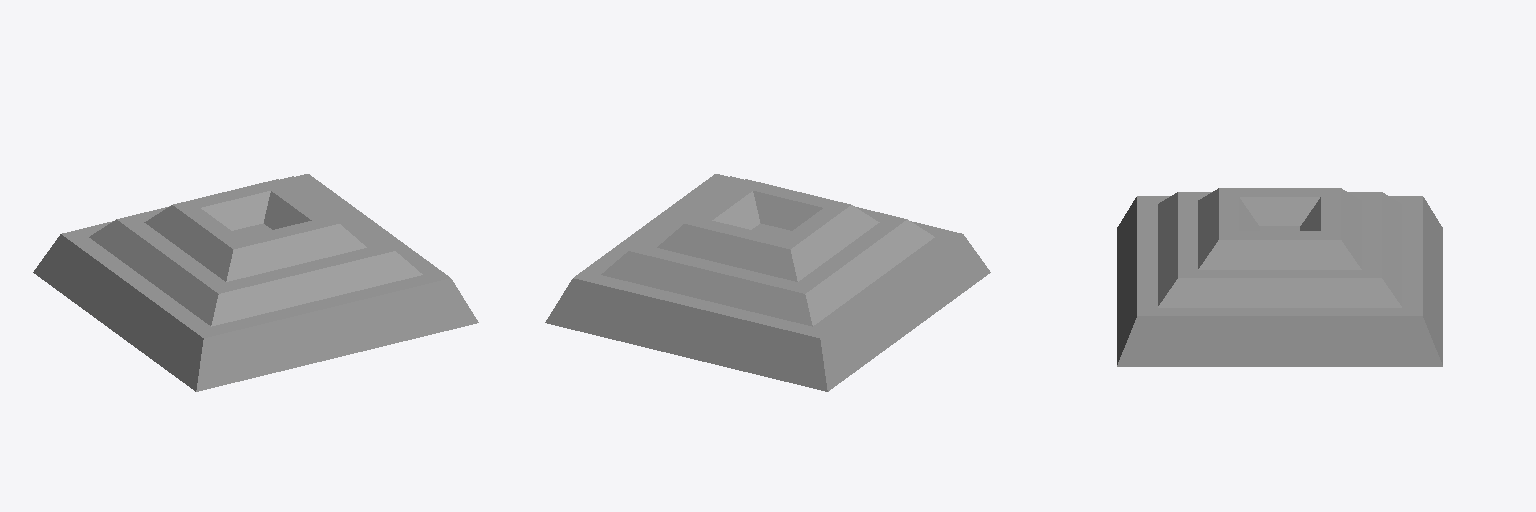
The model's file is sorting_interface.obj.
3 views of the same model, side by side, from view 1: azimuth 30°, elevation 25°; view 2: azimuth 150°, elevation 25°; view 3: azimuth 270°, elevation 25° (orthographic).
Parts seen in each view (by area): view 1: Cube.001_Cube.000; view 2: Cube.001_Cube.000; view 3: Cube.001_Cube.000.
Part boxes in pixels (x1,y1,x2,y2): Cube.001_Cube.000: (33,174,478,391); Cube.001_Cube.000: (545,174,990,391); Cube.001_Cube.000: (1117,188,1442,366).
Bounding box in the file's own units: 0.85 × 0.24 × 0.85.